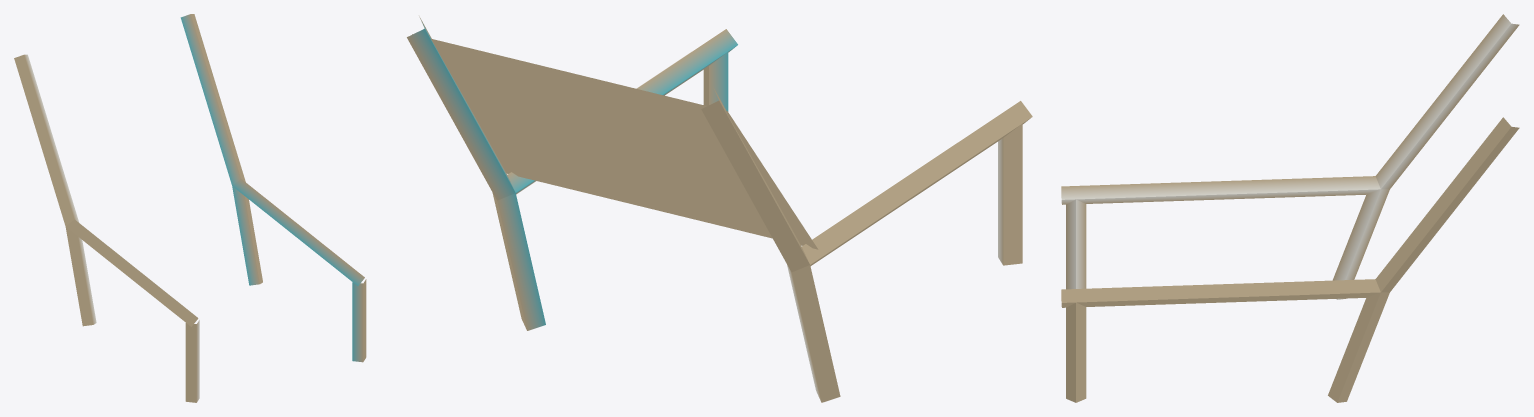
File: deckchair_0.glb
The picture shows the model from 3 angles, left to right: view 1: azimuth 30°, elevation 25°; view 2: azimuth 150°, elevation 25°; view 3: azimuth 270°, elevation 25°; orthographic projection. The views are drawn at different scales.
Parts seen in each view (by area): view 1: Deckchair; view 2: Deckchair; view 3: Deckchair.
Part boxes in pixels (x1,y1,x2,y2): Deckchair: (14,14,366,402); Deckchair: (407,16,1032,402); Deckchair: (1061,14,1519,402).
Bounding box in the file's own units: 0.91 × 1.08 × 1.58.
